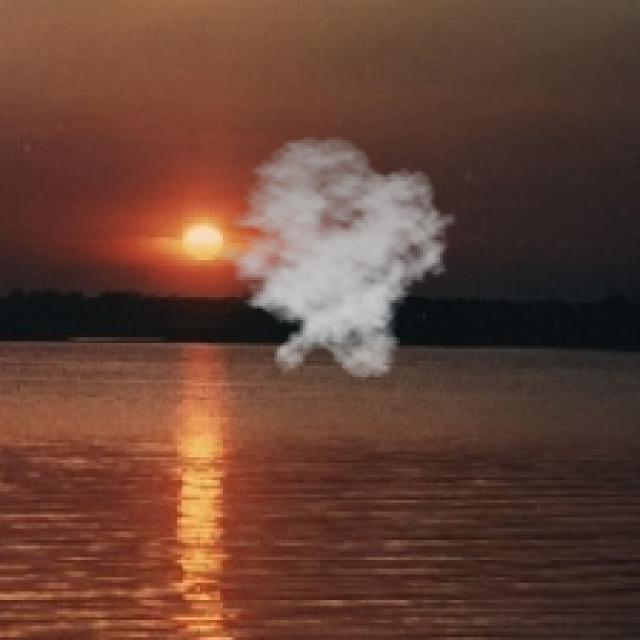smoke: (203, 134, 457, 380)
